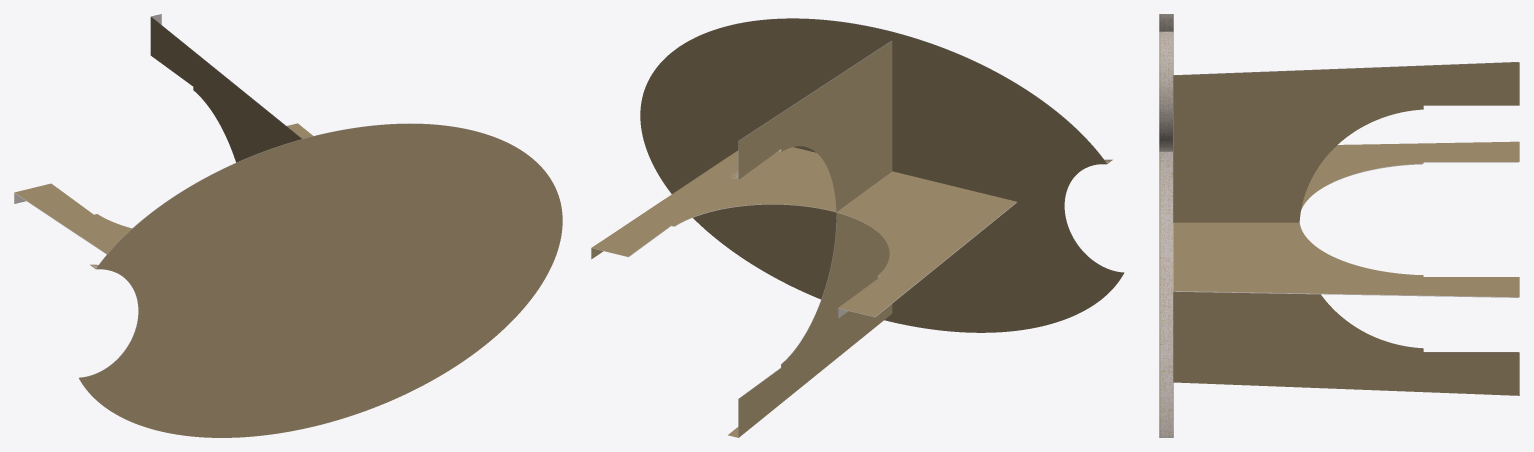
The model's file is NODO_MESA_RATONA_ORGANICA_PARAISO_V3.glb.
The picture shows the model from 3 angles, left to right: view 1: azimuth 30°, elevation 25°; view 2: azimuth 150°, elevation 25°; view 3: azimuth 270°, elevation 25°; orthographic projection. The views are drawn at different scales.
Visible parts, largest first — view 1: tapa_canto, pataB_canto, pataA_canto, tapa_cuerpo; view 2: tapa_canto, pataB_canto, pataA_canto, pataA_cuerpo, tapa_cuerpo, pataB_cuerpo; view 3: pataB_canto, pataA_canto, tapa_cuerpo, tapa_canto, pataA_cuerpo, pataB_cuerpo.
Part boxes in pixels (x1,y1,x2,y2): tapa_canto: [79, 123, 562, 437]; pataB_canto: [150, 14, 301, 162]; pataA_canto: [14, 123, 312, 253]; tapa_cuerpo: [79, 123, 511, 398]; tapa_canto: [640, 18, 1123, 332]; pataB_canto: [728, 38, 892, 437]; pataA_canto: [591, 147, 1017, 319]; pataA_cuerpo: [592, 202, 1016, 318]; tapa_cuerpo: [699, 18, 1123, 299]; pataB_cuerpo: [731, 41, 891, 436]; pataB_canto: [1173, 62, 1519, 395]; pataA_canto: [1173, 141, 1519, 297]; tapa_cuerpo: [1160, 14, 1172, 437]; tapa_canto: [1159, 14, 1173, 437]; pataA_cuerpo: [1173, 162, 1518, 297]; pataB_cuerpo: [1173, 62, 1518, 382].
Size of the model in its own units: 0.7852 by 0.46 by 0.45.
